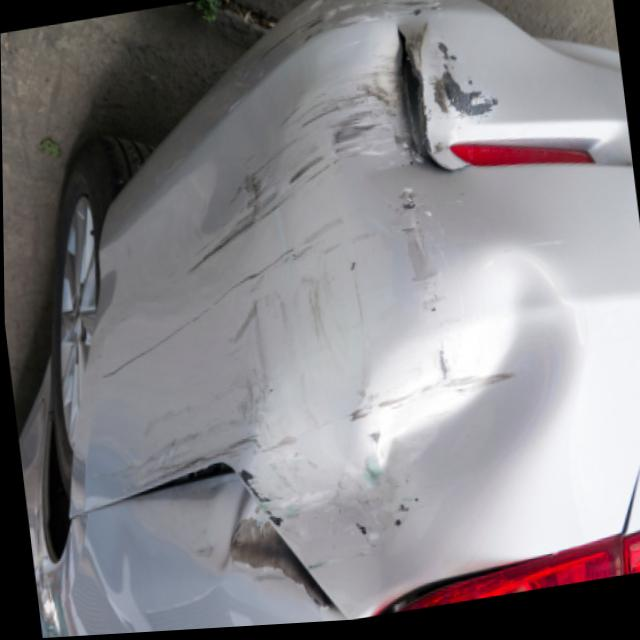Dent: (338, 231, 608, 523)
